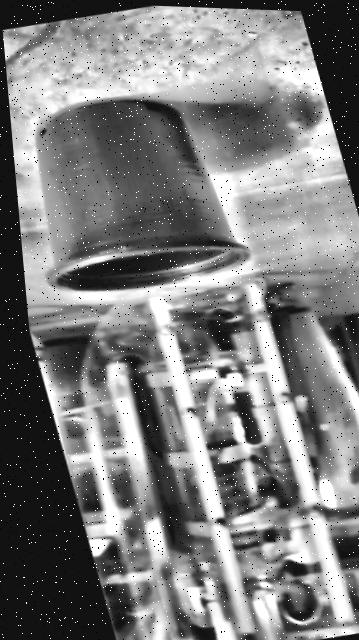pot: (7, 76, 256, 309)
